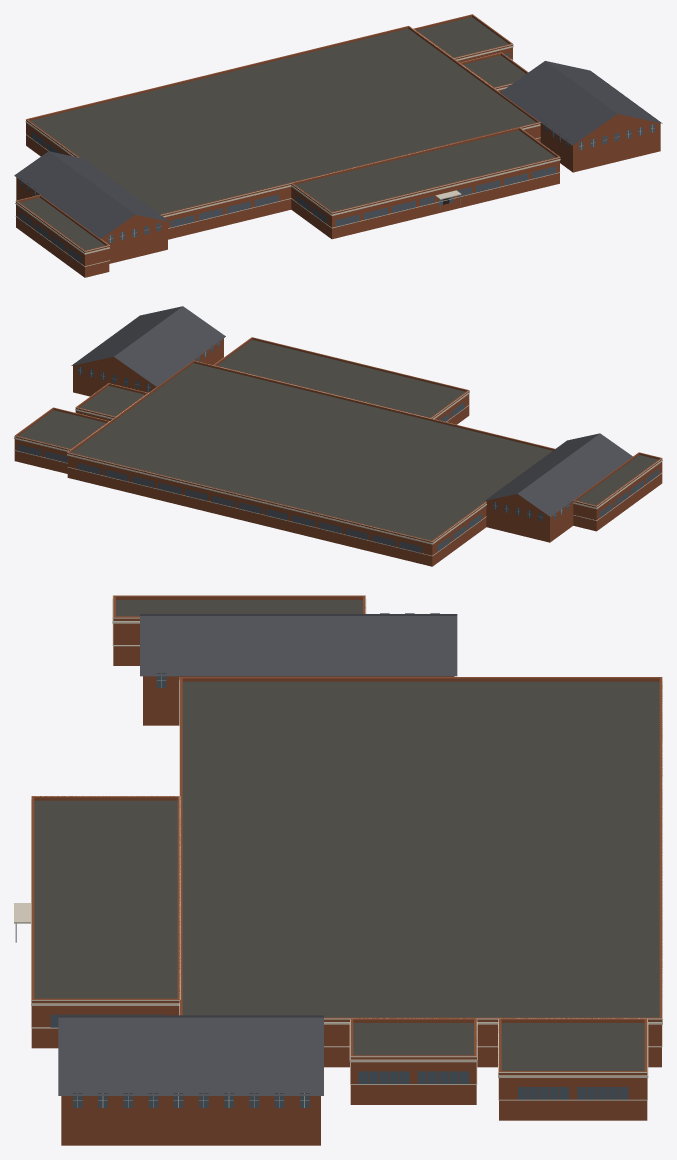
File: mills-school.glb
3 views of the same model, one above another, from view 1: azimuth 30°, elevation 25°; view 2: azimuth 150°, elevation 25°; view 3: azimuth 270°, elevation 25° (orthographic). The views are drawn at different scales.
Visible parts, largest first — view 1: mills_school; view 2: mills_school; view 3: mills_school.
Part boxes in pixels (box(x1,y1,x2,y2)): mills_school: box(14, 14, 662, 277); mills_school: box(14, 306, 662, 566); mills_school: box(14, 595, 662, 1145).
Size of the model in its own units: 161 by 13.23 by 87.52.
